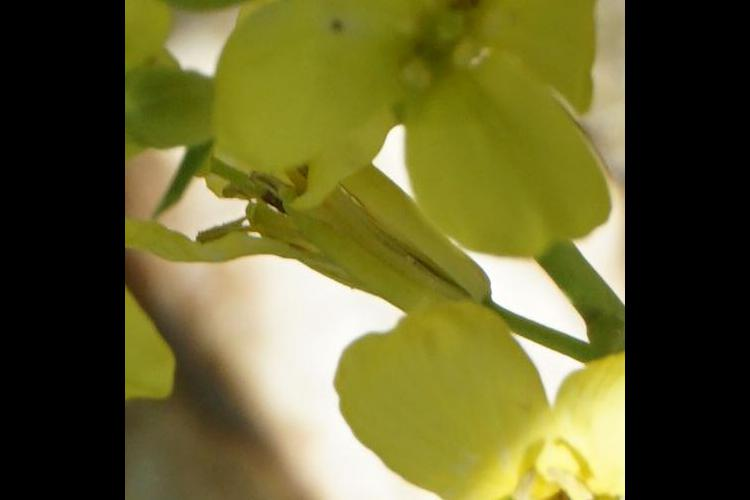bud: (137, 51, 222, 151)
yellow: (227, 1, 590, 224), (380, 311, 626, 500), (223, 138, 468, 297)
